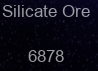Silicate: (2, 3, 91, 64)
